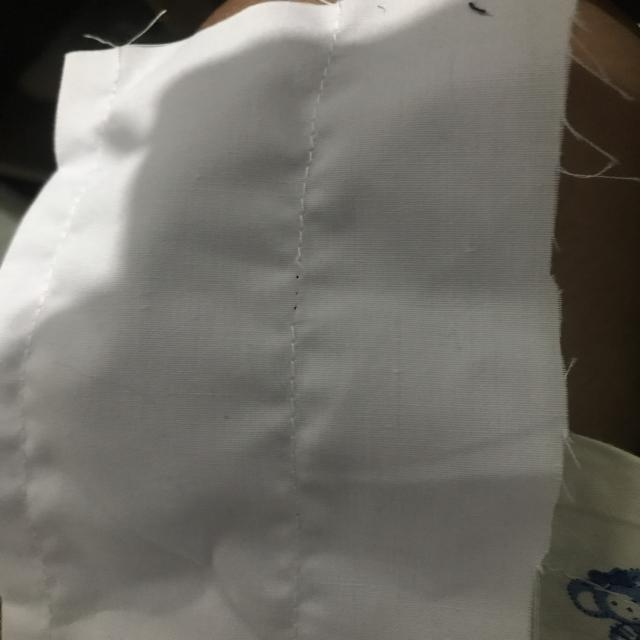broken: (269, 242, 329, 349)
good: (282, 132, 324, 212)
